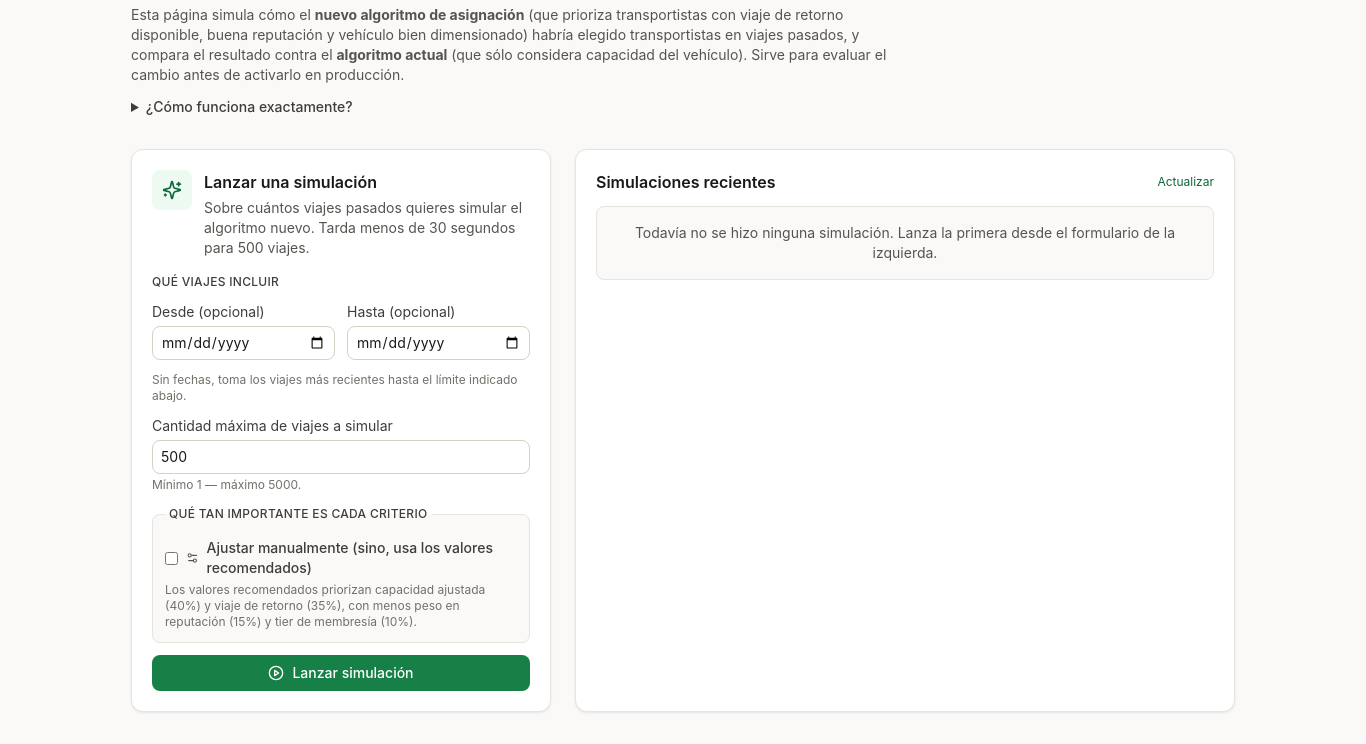
Test: Formulario — lanzar simulación › botón "Lanzar simulación" hace POST /admin/matching/backtest
(page scrolled)
Click the button with test id "run-backtest-button" at [341, 673], box 152,655 -> 530,691
(page scrolled)
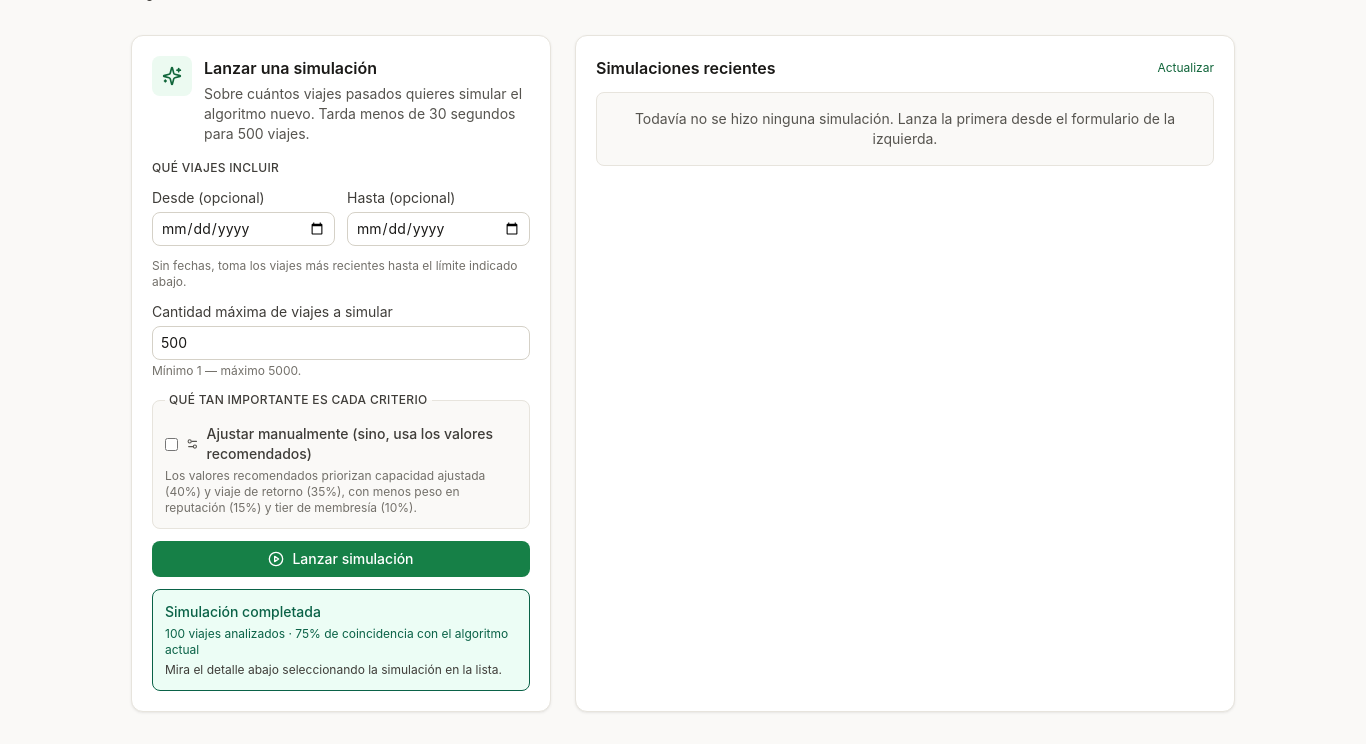
Result: the text "Simulación completada" is shown at 165,603 -> 321,620
Result: the text "100 viajes analizados · 75% de coincidencia" is shown at 165,626 -> 517,658
